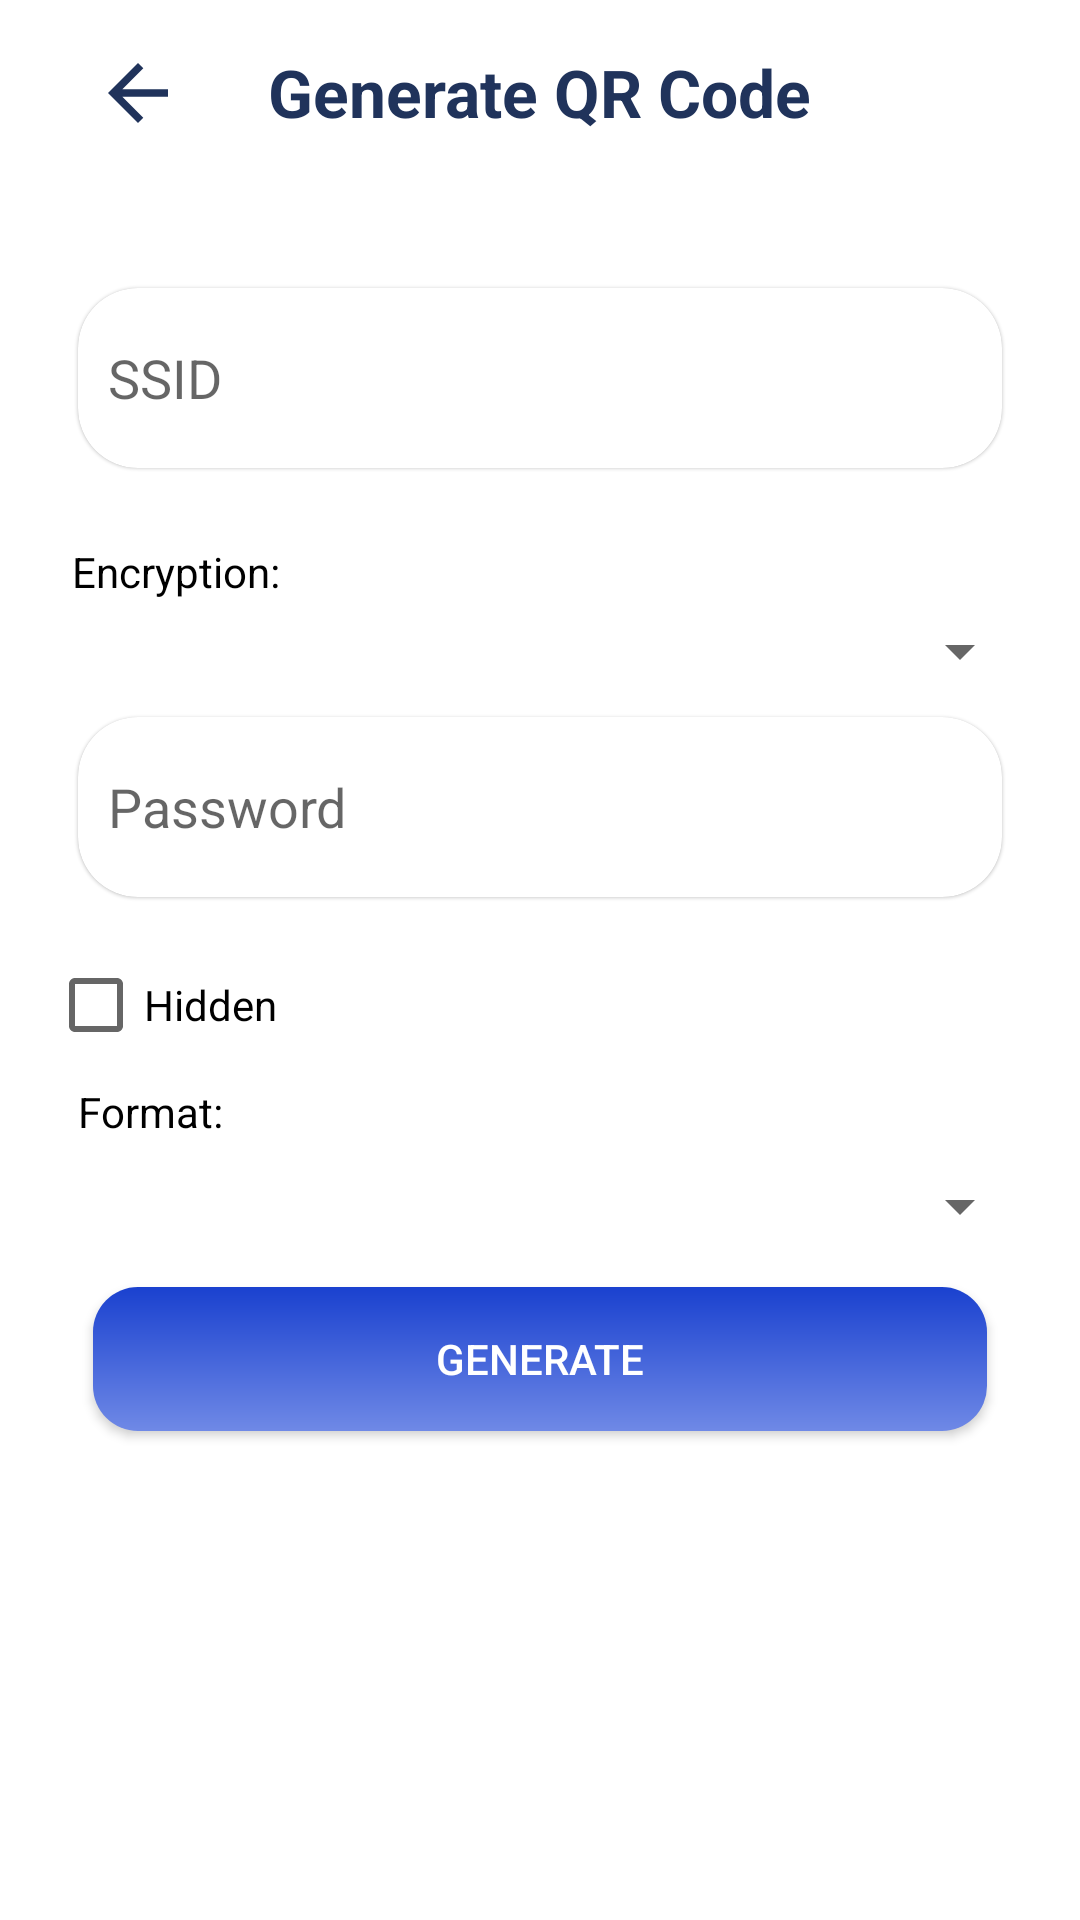

Locate icon controls on the screen. Image size 1080 x 1920, boxes as (x1, y1, x2, y2).
arrow: (108, 63, 168, 123)
